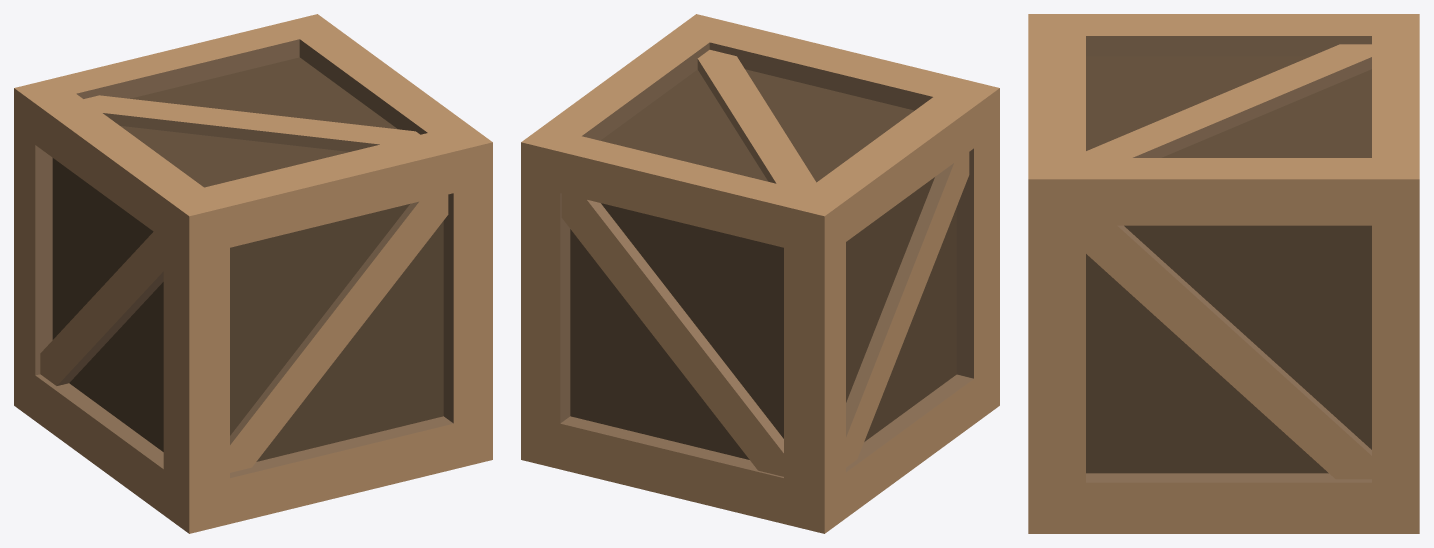
Rendered from BoxPushable.FBX.
3 views of the same model, side by side, from view 1: azimuth 30°, elevation 25°; view 2: azimuth 150°, elevation 25°; view 3: azimuth 270°, elevation 25° (orthographic). The views are drawn at different scales.
Parts seen in each view (by area): view 1: box_pushable; view 2: box_pushable; view 3: box_pushable.
Boxes of the visible parts, bbox=[...] form: box_pushable: bbox=[14, 14, 492, 533]; box_pushable: bbox=[521, 14, 999, 533]; box_pushable: bbox=[1028, 14, 1419, 533].
Size of the model in its own units: 118 by 118 by 118.
